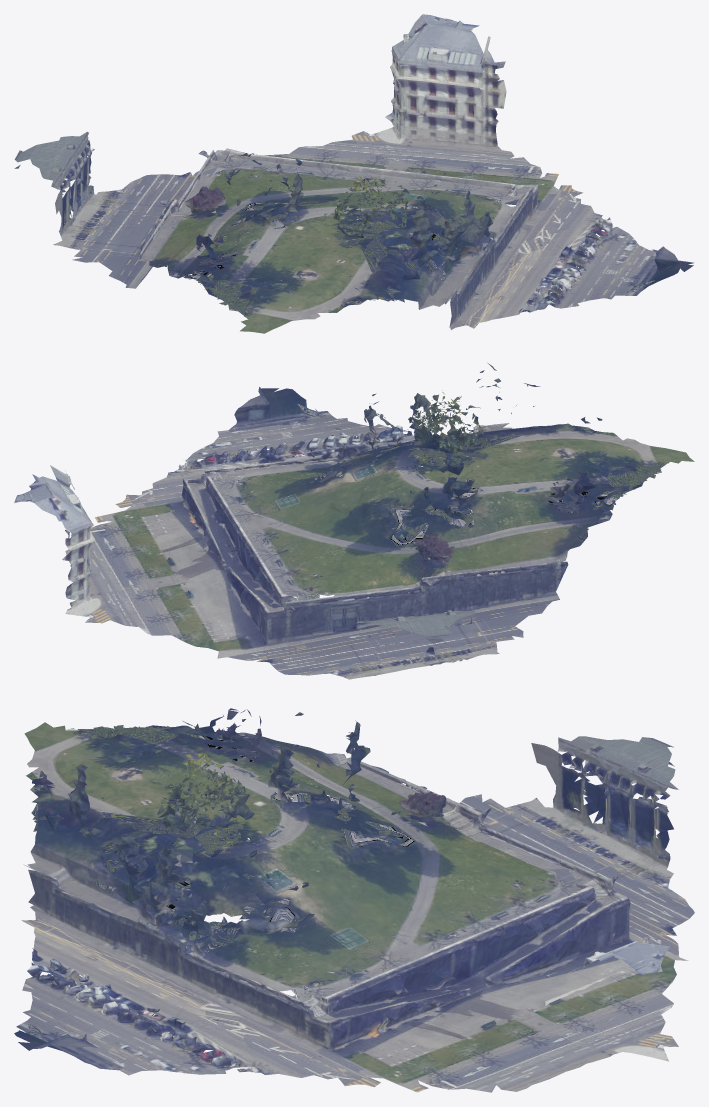
3 renders of one model, top to bottom at view 1: azimuth 30°, elevation 25°; view 2: azimuth 150°, elevation 25°; view 3: azimuth 270°, elevation 25°, orthographic. The views are drawn at different scales.
Bounding box in the file's own units: 109 × 30.97 × 109.
Materials: 1 (1 with a texture image).
